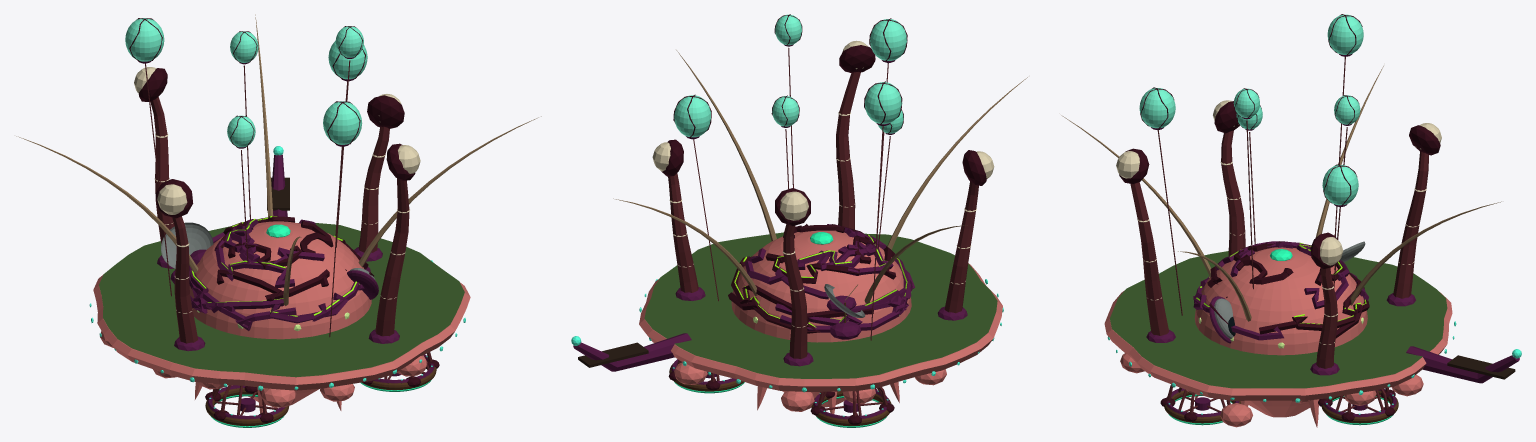
The model's file is station_science.obj.
3 views of the same model, side by side, from view 1: azimuth 30°, elevation 25°; view 2: azimuth 150°, elevation 25°; view 3: azimuth 270°, elevation 25° (orthographic). The views are drawn at different scales.
Visible parts, largest first — view 1: station_science; view 2: station_science; view 3: station_science.
Boxes of the visible parts, box(x1,y1,x2,y2) form: station_science: box(16, 14, 541, 427); station_science: box(571, 14, 1027, 427); station_science: box(1061, 14, 1521, 427).
Bounding box in the file's own units: 960 × 832 × 1000.
Materials: 1 (1 with a texture image).
